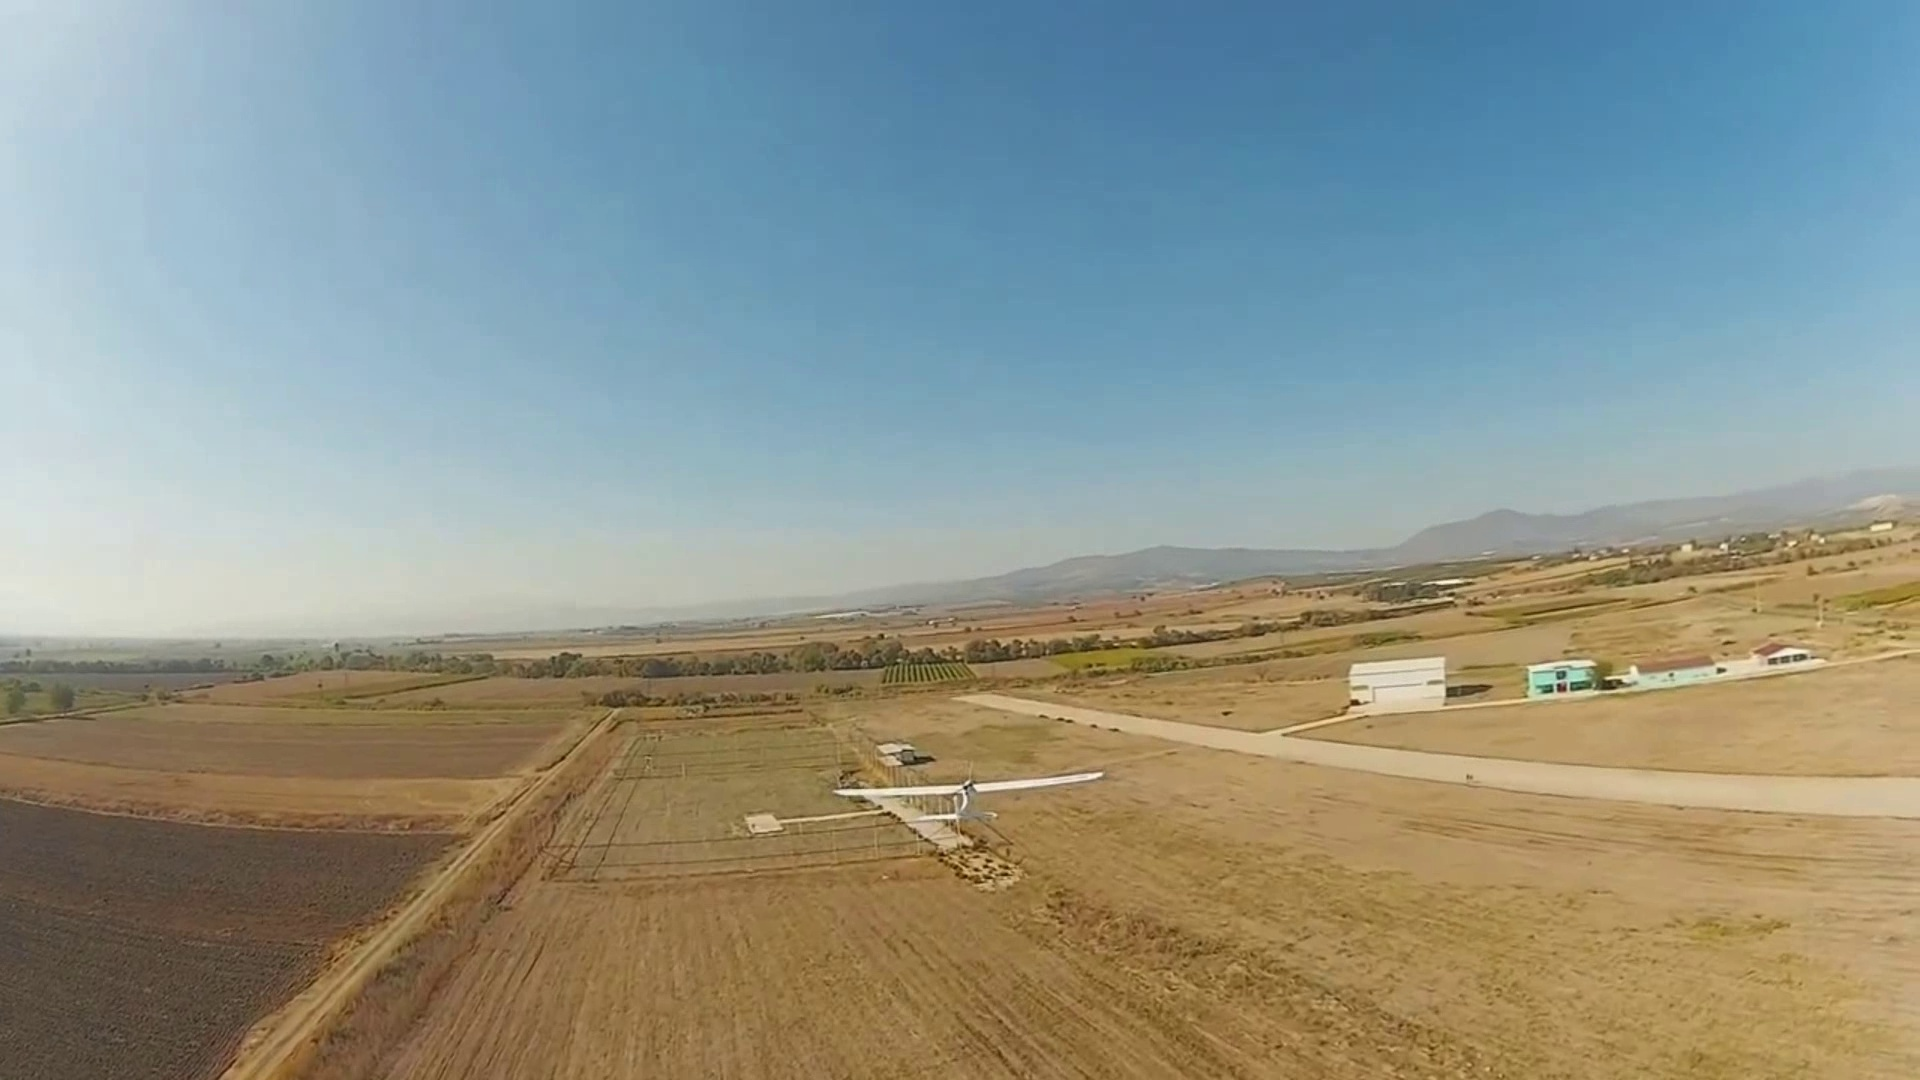airplane: (832, 746, 1108, 851)
